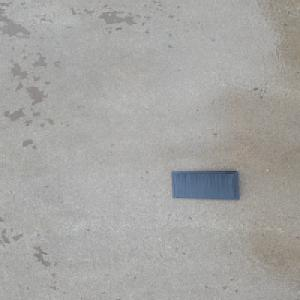PlasticPart: (170, 169, 241, 200)
